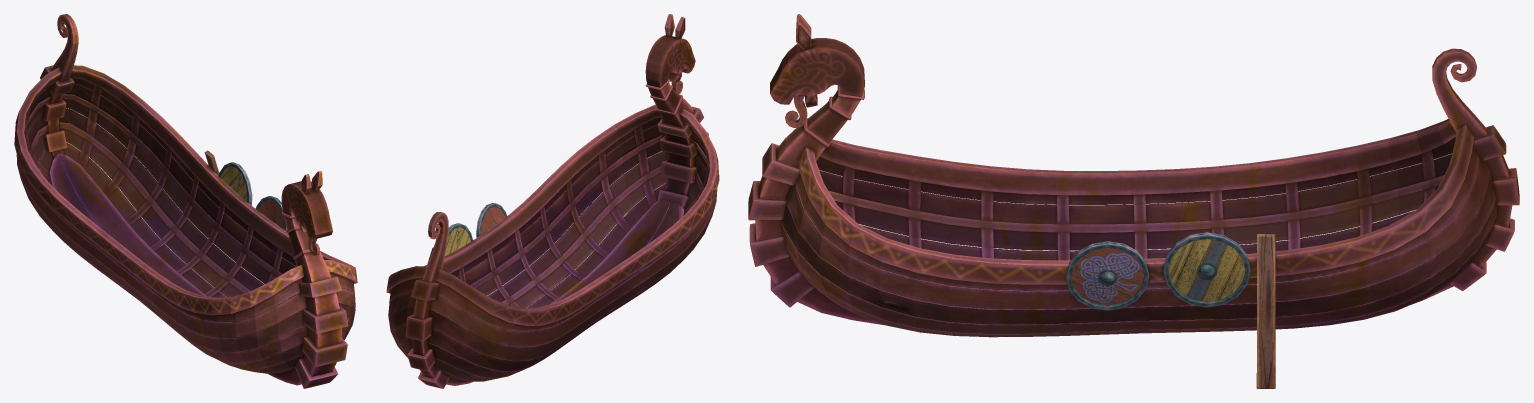
Rendered from ship1.FBX.
3 views of the same model, side by side, from view 1: azimuth 30°, elevation 25°; view 2: azimuth 150°, elevation 25°; view 3: azimuth 270°, elevation 25° (orthographic). The views are drawn at different scales.
Parts seen in each view (by area): view 1: Object002; view 2: Object002; view 3: Object002.
Part boxes in pixels (left/top/right/bottom): Object002: left=14, top=14, right=357, bottom=388; Object002: left=386, top=14, right=719, bottom=388; Object002: left=748, top=14, right=1519, bottom=388.
Size of the model in its own units: 306 by 373 by 842.
